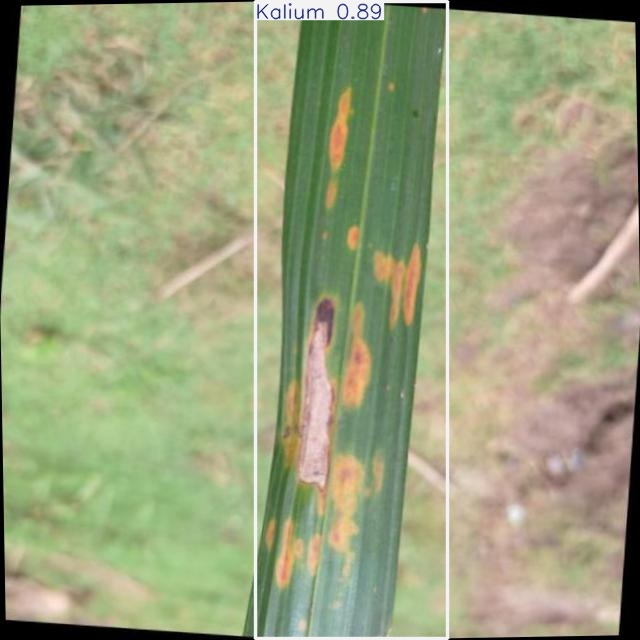Kalium: (256, 2, 447, 639)
